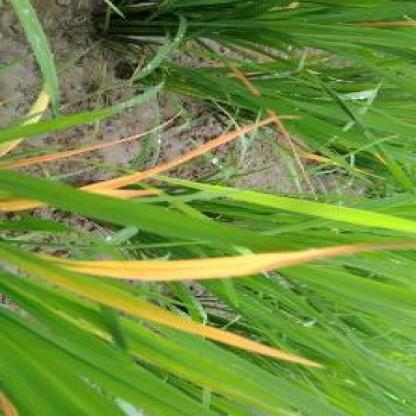Tungro: (1, 232, 331, 371), (50, 243, 415, 286)
